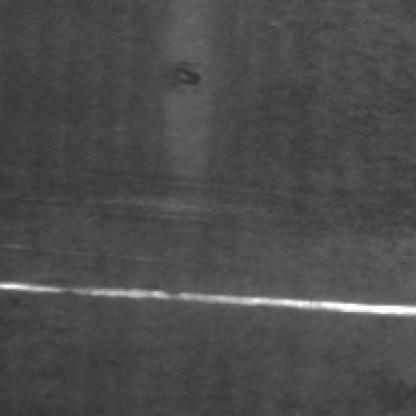scratches: (6, 270, 412, 316)
